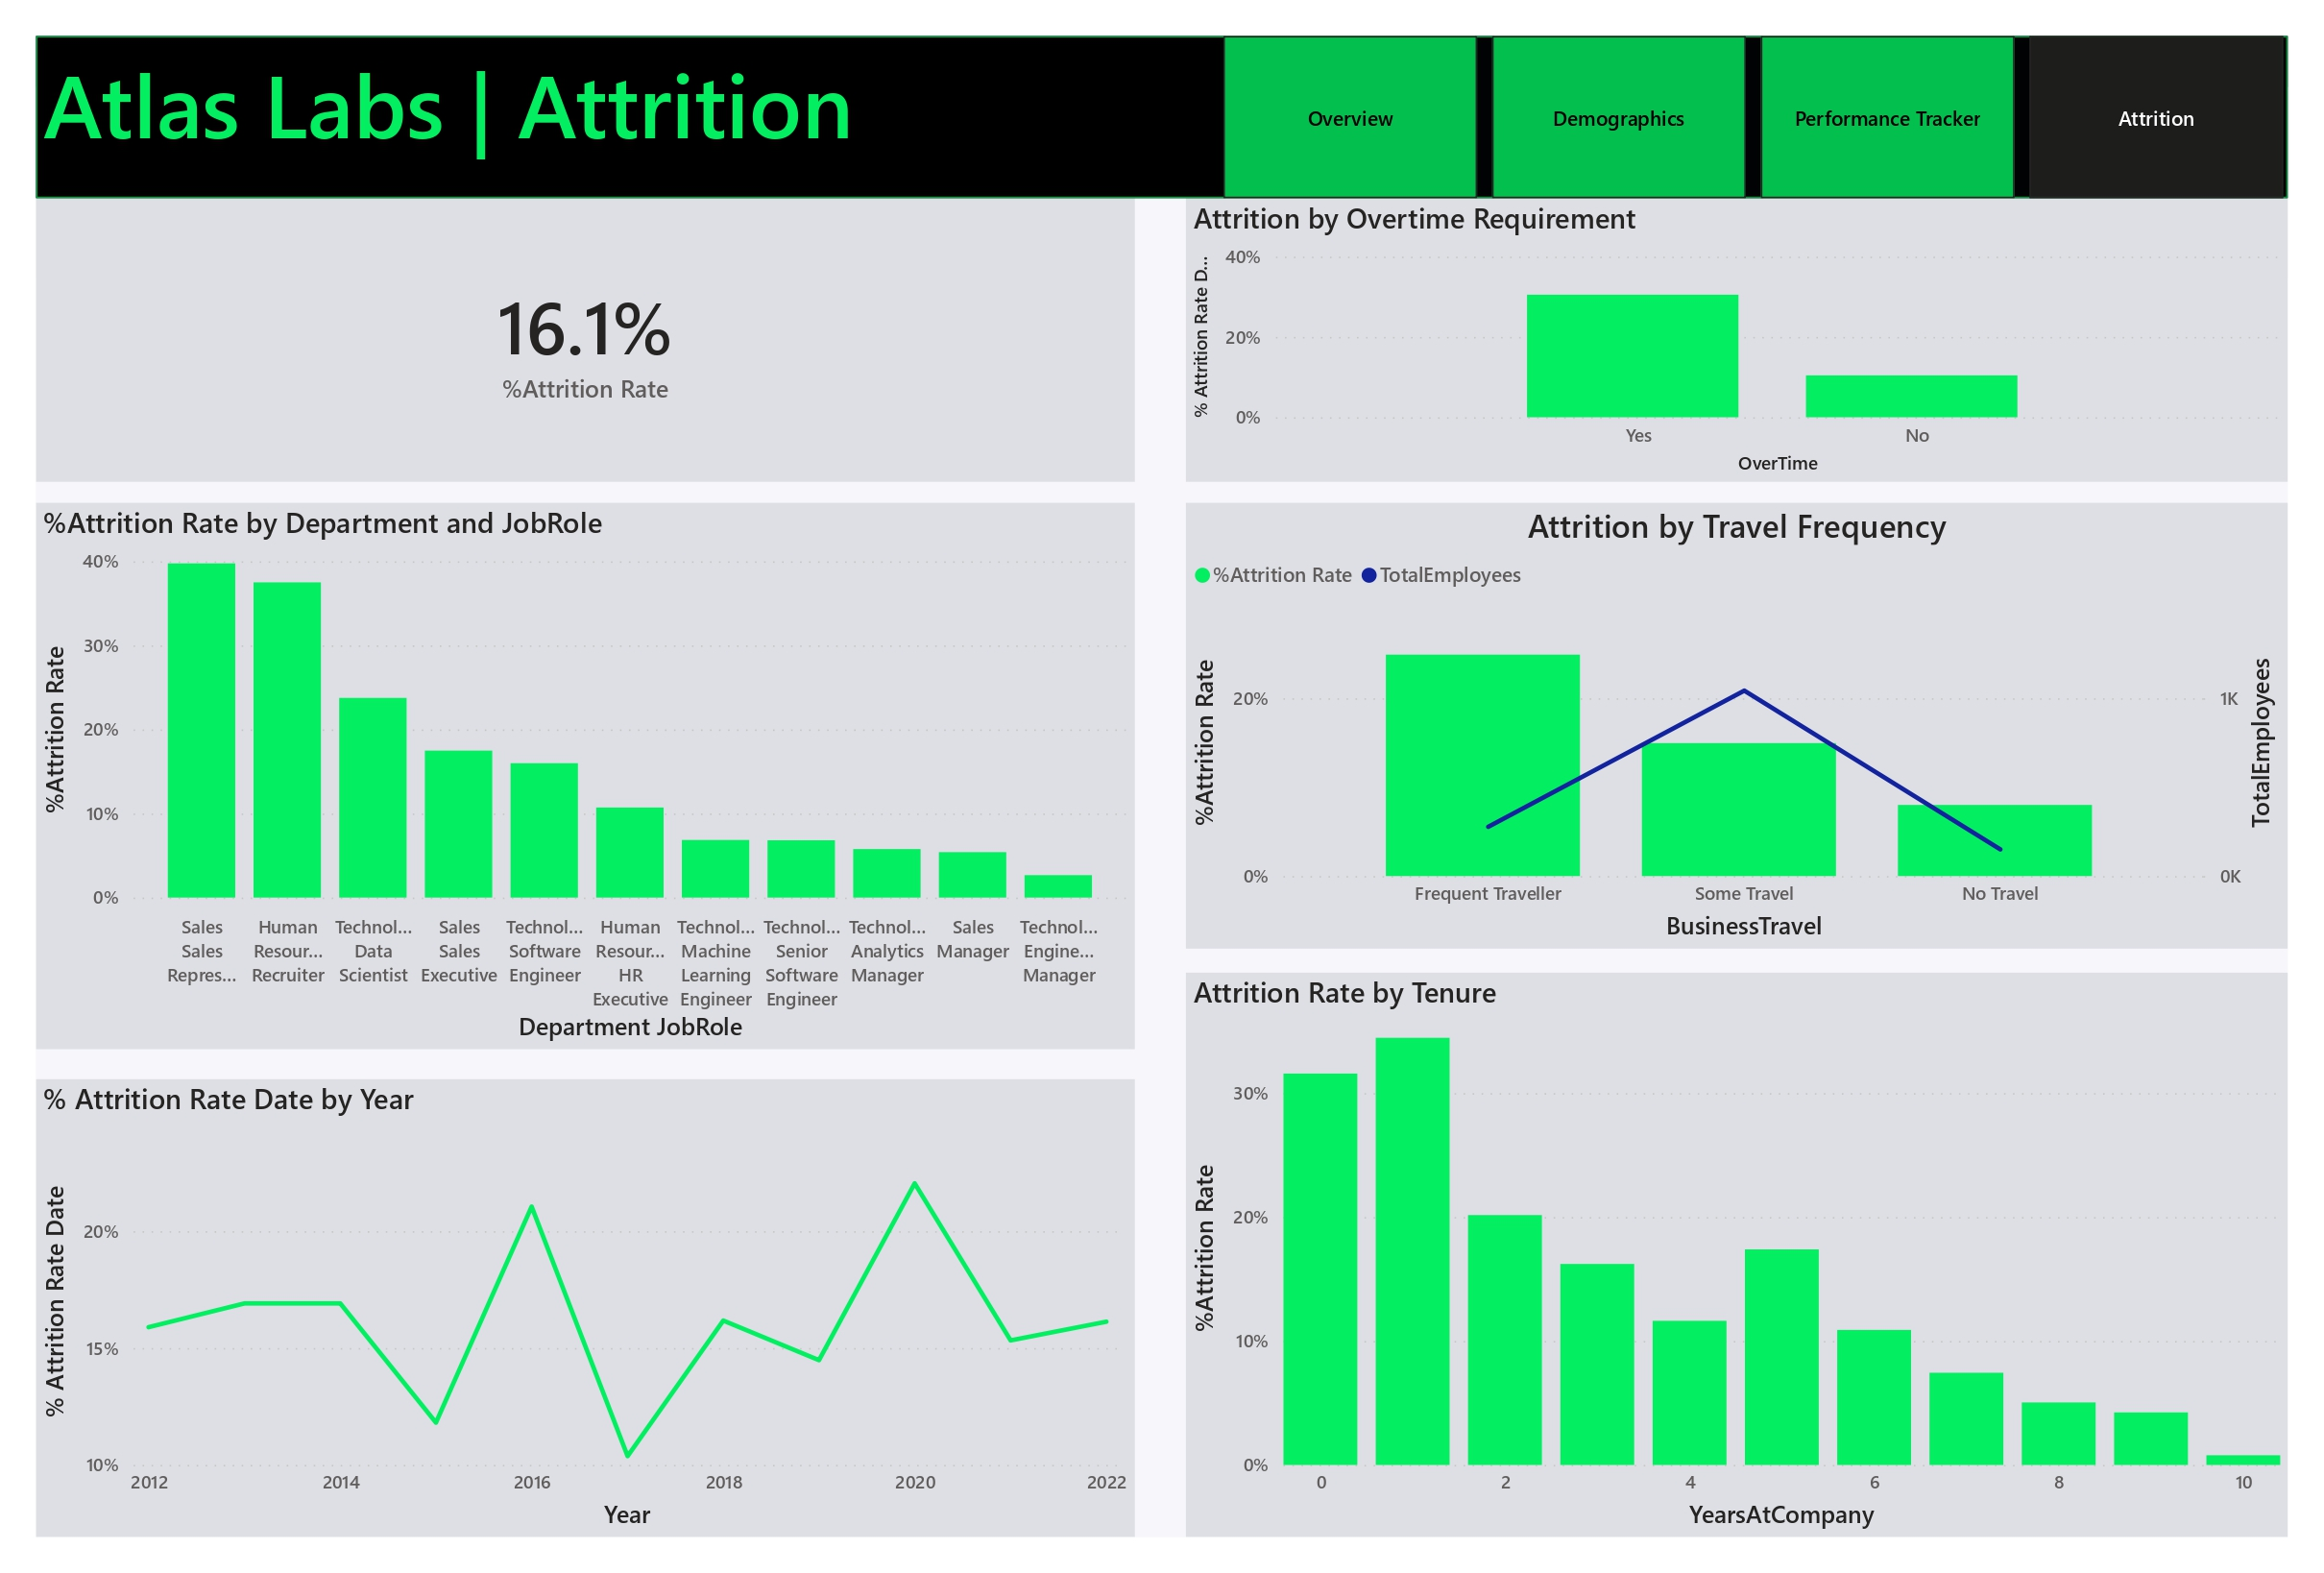

The dashboard page shown, as its layout file describes it:
{"tool":"powerbi","page":{"name":"Attrition","canvas":[1500,1000],"ordinal":3},"visuals":[{"type":"card","fields":{"Values":["_Measures.%Attrition Rate"]},"box":[0,108.3,732.3,189],"z":0},{"type":"clusteredColumnChart","fields":{"Category":["DIMEmployee.Department","DIMEmployee.JobRole"],"Y":["_Measures.%Attrition Rate"]},"box":[0,311,732.3,364.2],"z":1000},{"type":"clusteredColumnChart","title":"Attrition by Overtime Requirement","fields":{"Category":["DIMEmployee.OverTime"],"Y":["_Measures.% Attrition Rate Date"]},"box":[765.7,108.3,734.3,189],"z":2000},{"type":"lineStackedColumnComboChart","title":"Attrition by Travel Frequency","fields":{"Category":["DIMEmployee.BusinessTravel"],"Y":["_Measures.%Attrition Rate"],"Y2":["_Measures.TotalEmployees"]},"box":[765.7,311,734.3,297.2],"z":3000},{"type":"clusteredColumnChart","title":"Attrition Rate by Tenure","fields":{"Category":["DIMEmployee.YearsAtCompany"],"Y":["_Measures.%Attrition Rate"]},"box":[765.7,624,734.3,376],"z":4000},{"type":"lineChart","fields":{"Category":["DimDate.Date.Variation.Date Hierarchy.Year","DimDate.Date.Variation.Date Hierarchy.Quarter","DimDate.Date.Variation.Date Hierarchy.Month","DimDate.Date.Variation.Date Hierarchy.Day"],"Y":["_Measures.% Attrition Rate Date"]},"box":[0,694.9,732.3,305.1],"z":5000},{"type":"shape","box":[0,0,1500,108.3],"z":6000},{"type":"textbox","box":[0,0,1500,108.3],"z":7000},{"type":"pageNavigator","box":[791.3,0,708.7,108.3],"z":8000}]}

Visuals, with their boxes on the page's 1500x1000 design canvas (x1, y1, x2, y2). These are canvas units, not pixel positions in the 2324x1573 screenshot, which may show the page scaled, cropped or inside an application window:
card - _Measures.%Attrition Rate: 0/108/732/297
clusteredColumnChart - DIMEmployee.Department x DIMEmployee.JobRole: 0/311/732/675
"Attrition by Overtime Requirement" clusteredColumnChart: 766/108/1500/297
"Attrition by Travel Frequency" lineStackedColumnComboChart: 766/311/1500/608
"Attrition Rate by Tenure" clusteredColumnChart: 766/624/1500/1000
lineChart - DimDate.Date.Variation.Date Hierarchy.Year x DimDate.Date.Variation.Date Hierarchy.Quarter: 0/695/732/1000
shape: 0/0/1500/108
textbox: 0/0/1500/108
pageNavigator: 791/0/1500/108
